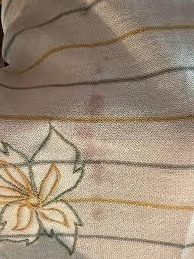wine: (72, 123, 106, 156), (83, 166, 111, 196), (81, 92, 106, 117), (86, 56, 109, 79), (84, 201, 105, 224)
